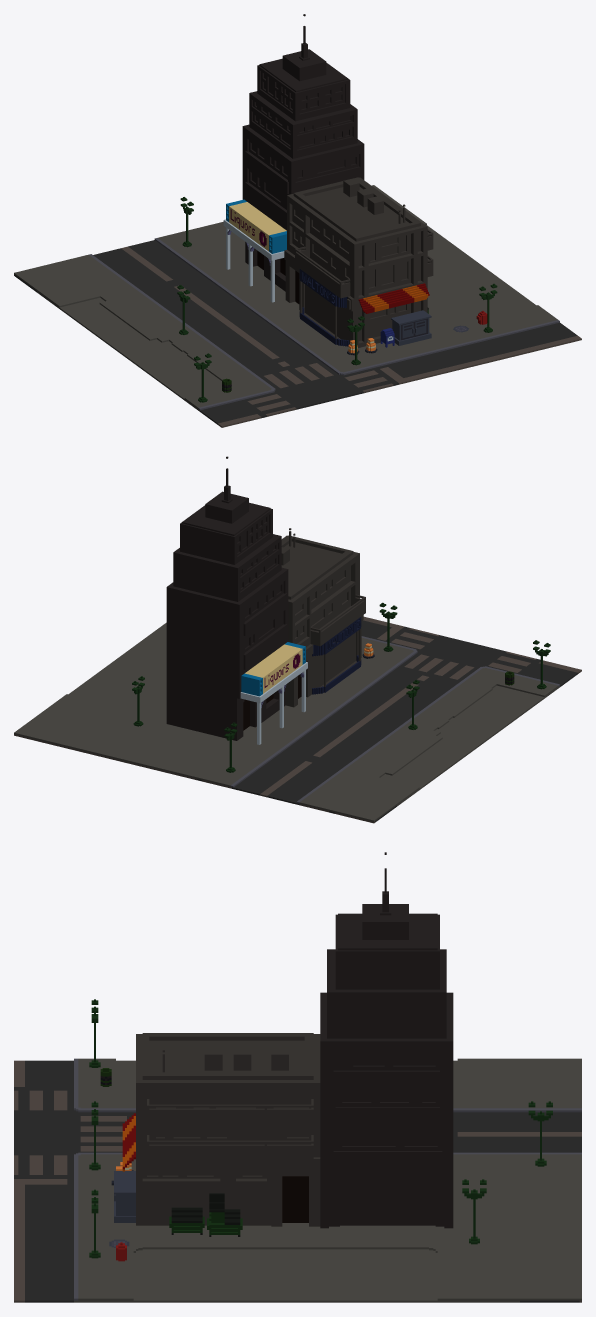
File: Street1-3.obj
The picture shows the model from 3 angles, top to bottom: view 1: azimuth 30°, elevation 25°; view 2: azimuth 150°, elevation 25°; view 3: azimuth 270°, elevation 25°; orthographic projection. The views are drawn at different scales.
Size of the model in its own units: 25.6 by 17.7 by 25.6.
Materials: 1 (1 with a texture image).
